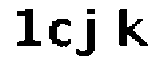1: (14, 7, 43, 48)
c: (48, 16, 74, 48)
j: (75, 6, 100, 58)
k: (117, 6, 150, 50)
